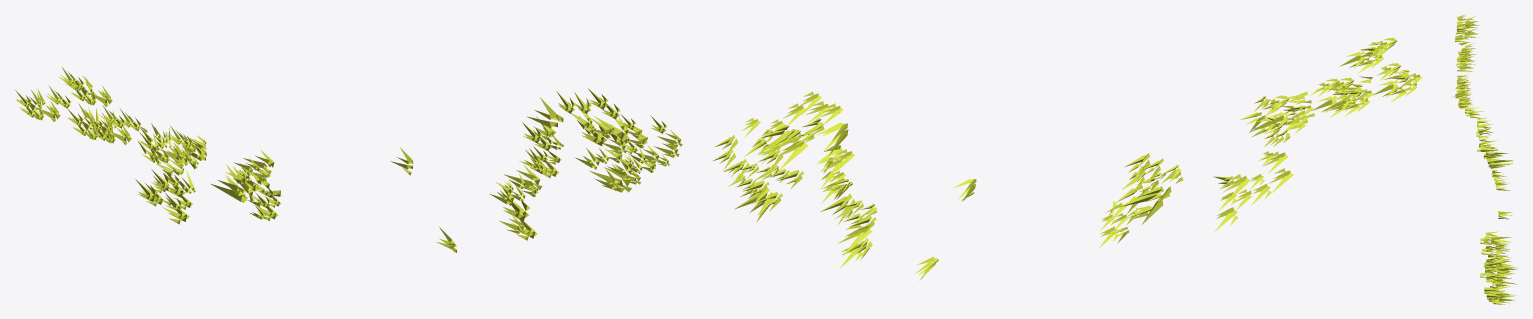
Rendered from Lake_Grass.fbx.
3 renders of one model, left to right at view 1: azimuth 30°, elevation 25°; view 2: azimuth 150°, elevation 25°; view 3: azimuth 270°, elevation 25°, orthographic. The views are drawn at different scales.
Parts seen in each view (by area): view 1: Grass.001; view 2: Grass.001; view 3: Grass.001.
Part boxes in pixels (x1,y1,x2,y2): Grass.001: (15, 66, 682, 253); Grass.001: (712, 38, 1422, 280); Grass.001: (1452, 14, 1517, 304).
Bounding box in the file's own units: 1680 × 755 × 291.
